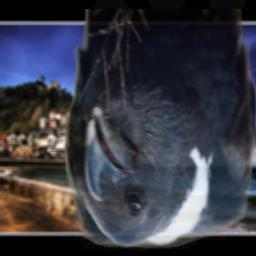Crow: (65, 9, 255, 249)
